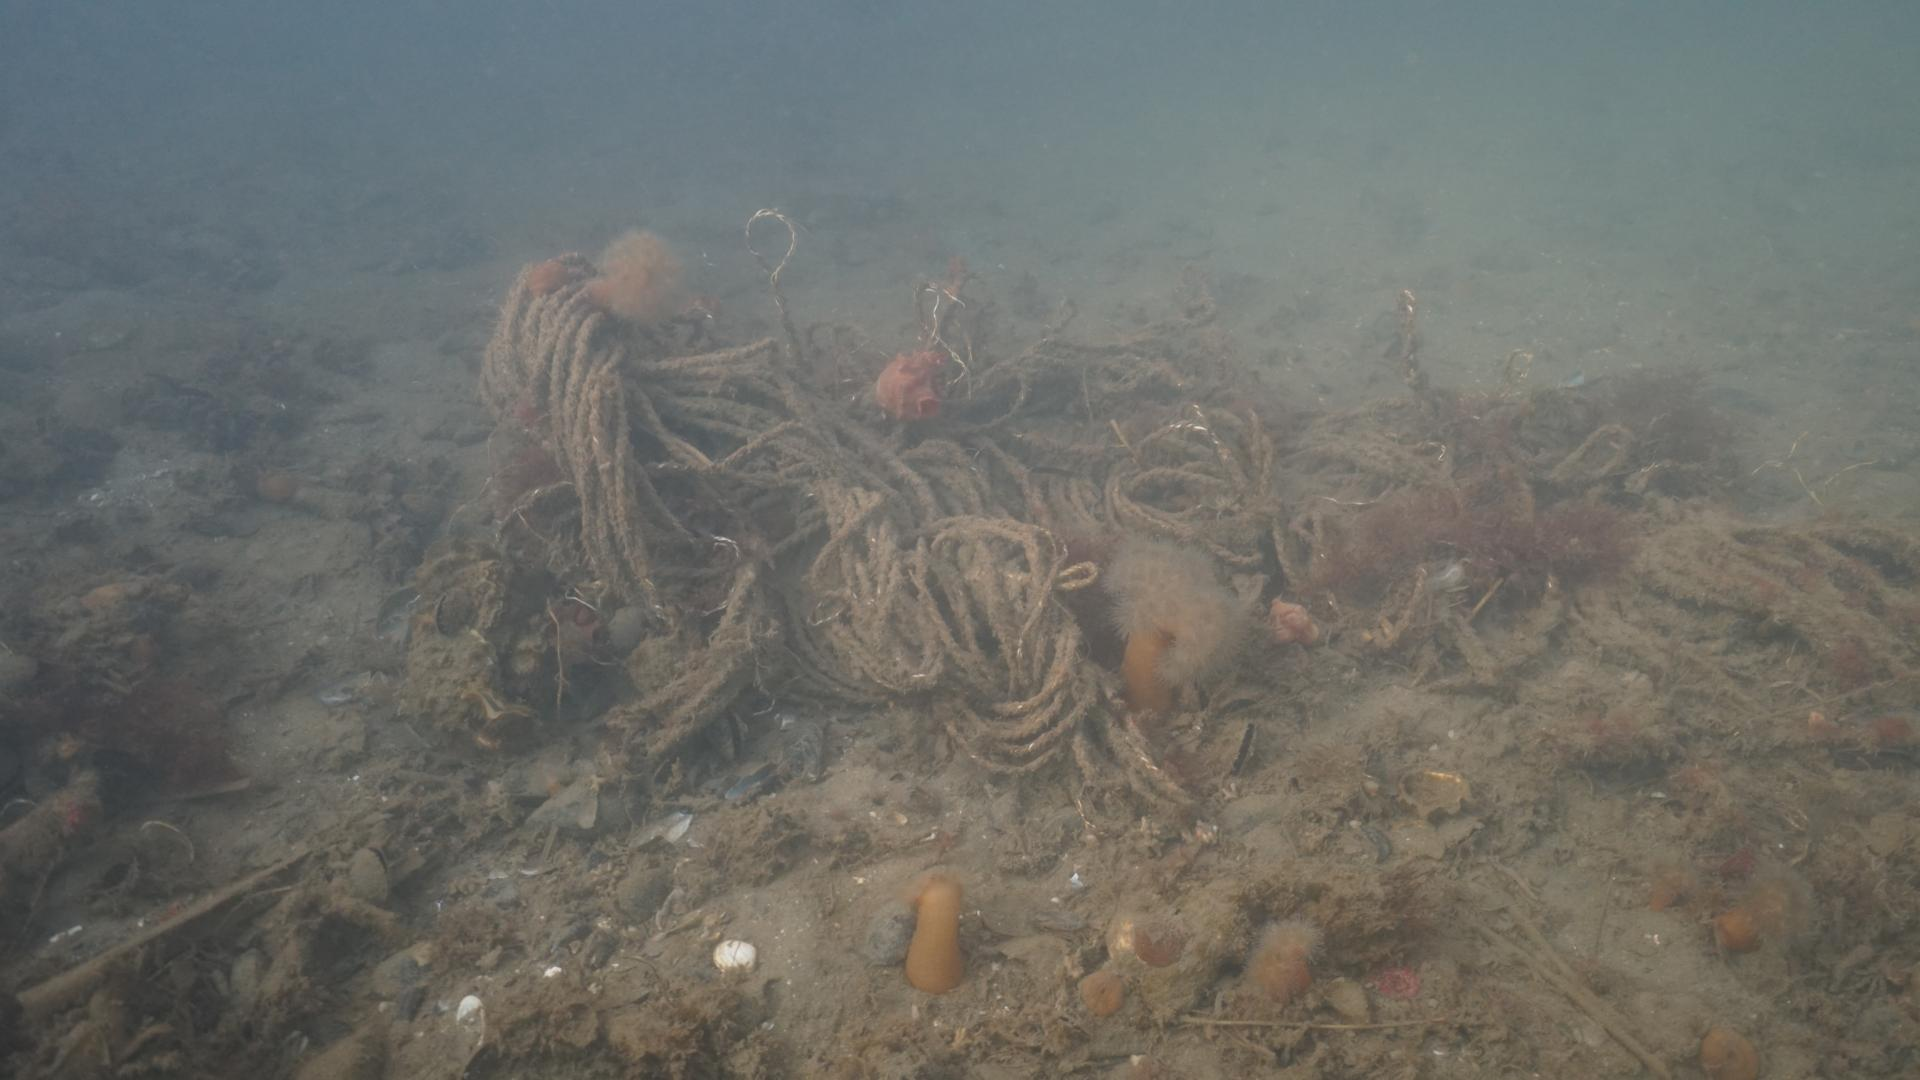bundle of ropes: (390, 203, 1920, 833)
